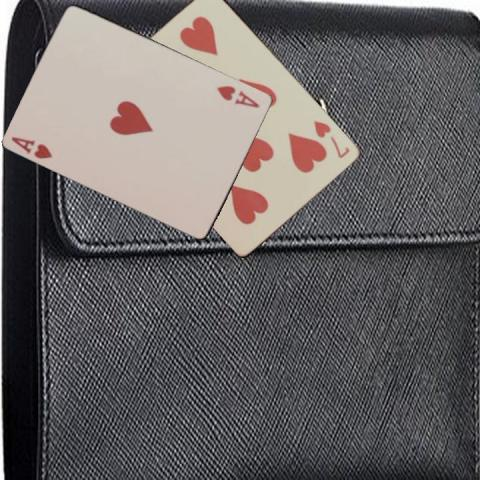7h: (311, 117, 352, 160)
Ah: (214, 82, 262, 109), (9, 133, 54, 161)
